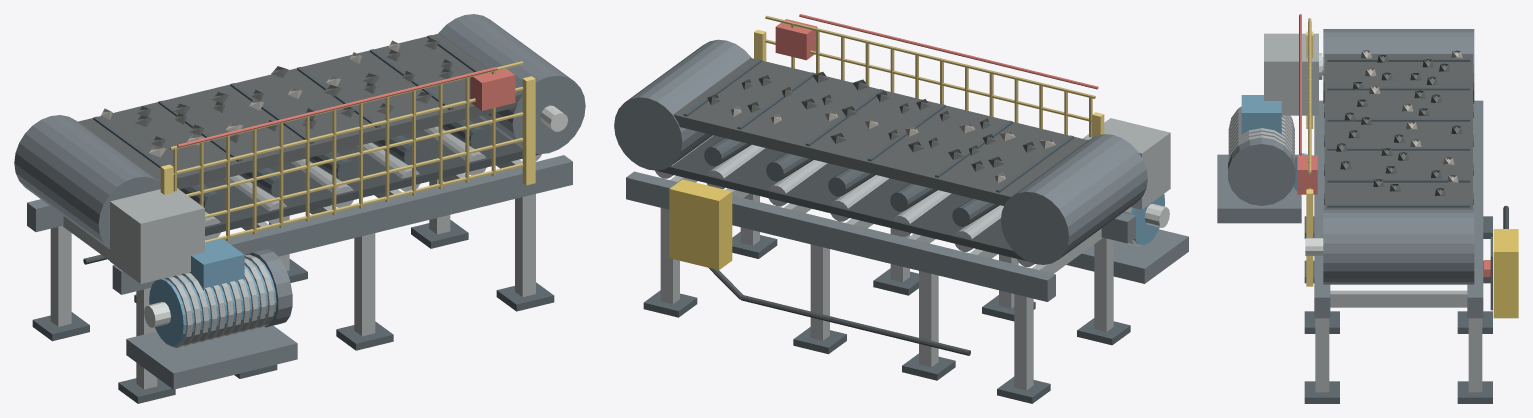
Rendered from conveyor.glb.
3 renders of one model, left to right at view 1: azimuth 30°, elevation 25°; view 2: azimuth 150°, elevation 25°; view 3: azimuth 270°, elevation 25°, orthographic. The views are drawn at different scales.
Visible parts, largest first — view 1: Textured rubber carry belt, Head or tail pulley (×2), Longitudinal channel frame (×2), Bolted support leg (×4), Reduction gearbox housing, Return belt, Drive motor mounting skid, Mesh guard horizontals (×5), Leg foot plate (×5), Mesh guard uprights (×7), Carry idler right (×5), TEFC electric drive housing (+14 smaller); view 2: Textured rubber carry belt, Head or tail pulley (×2), Longitudinal channel frame (×2), Return belt, Bolted support leg (×5), Leg foot plate (×7), Lockable local isolator, Return idler (×5), Carry idler left (×5), Drive motor mounting skid, Reduction gearbox housing, Mesh guard horizontals (×2) (+5 smaller); view 3: Textured rubber carry belt, Head or tail pulley (×2), Longitudinal channel frame (×2), Motor fan cowling, Reduction gearbox housing, Belt edge anti-slip cleat (×6), Drive motor mounting skid, Cross frame, Leg foot plate (×4), Lockable local isolator, Bolted support leg (×2), Terminal connection box (+7 smaller).
Boxes of the visible parts, bbox=[...] form: Textured rubber carry belt: bbox=[78, 33, 522, 189]; Head or tail pulley (×2): bbox=[14, 14, 585, 249]; Longitudinal channel frame (×2): bbox=[27, 155, 572, 294]; Bolted support leg (×4): bbox=[50, 194, 535, 389]; Reduction gearbox housing: bbox=[110, 188, 204, 283]; Return belt: bbox=[203, 116, 540, 235]; Drive motor mounting skid: bbox=[126, 325, 297, 389]; Mesh guard horizontals (×5): bbox=[169, 61, 523, 242]; Leg foot plate (×5): bbox=[32, 220, 554, 403]; Mesh guard uprights (×7): bbox=[252, 77, 469, 234]; Carry idler right (×5): bbox=[179, 120, 489, 213]; TEFC electric drive housing: bbox=[149, 258, 276, 346]; Textured rubber carry belt: bbox=[673, 58, 1088, 205]; Head or tail pulley (×2): bbox=[614, 39, 1147, 264]; Longitudinal channel frame (×2): bbox=[626, 171, 1135, 301]; Return belt: bbox=[656, 135, 1025, 260]; Bolted support leg (×5): bbox=[660, 208, 1113, 390]; Leg foot plate (×7): bbox=[643, 232, 1130, 403]; Lockable local isolator: bbox=[669, 179, 732, 270]; Return idler (×5): bbox=[706, 144, 1003, 251]; Carry idler left (×5): bbox=[704, 138, 999, 226]; Drive motor mounting skid: bbox=[1066, 229, 1188, 283]; Reduction gearbox housing: bbox=[1082, 118, 1170, 209]; Mesh guard horizontals (×2): bbox=[765, 15, 1095, 121]; Textured rubber carry belt: bbox=[1324, 54, 1472, 209]; Head or tail pulley (×2): bbox=[1323, 29, 1474, 284]; Longitudinal channel frame (×2): bbox=[1314, 100, 1483, 318]; Motor fan cowling: bbox=[1228, 137, 1295, 205]; Reduction gearbox housing: bbox=[1264, 33, 1318, 115]; Belt edge anti-slip cleat (×6): bbox=[1327, 58, 1470, 207]; Drive motor mounting skid: bbox=[1217, 154, 1301, 223]; Cross frame: bbox=[1330, 290, 1467, 307]; Leg foot plate (×4): bbox=[1304, 311, 1492, 403]; Lockable local isolator: bbox=[1493, 229, 1518, 318]; Bolted support leg (×2): bbox=[1315, 318, 1482, 392]; Terminal connection box: bbox=[1241, 95, 1281, 134].
Size of the model in its own units: 4.4 by 2.18 by 2.64.
